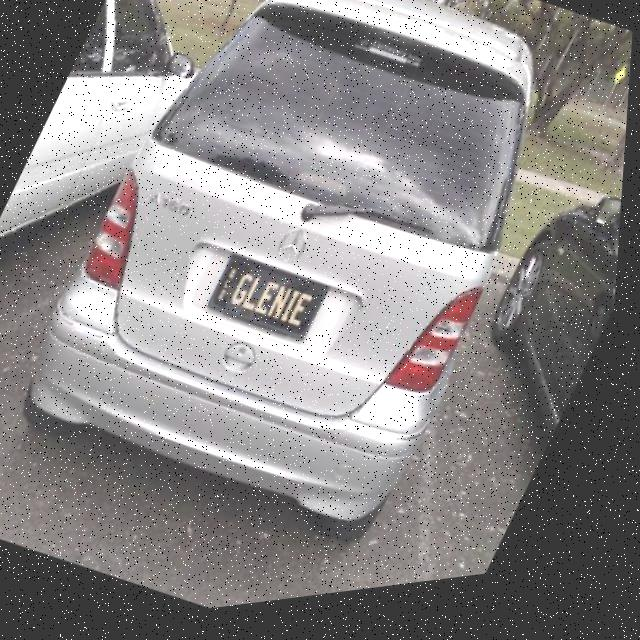license_plate: (208, 250, 338, 361)
